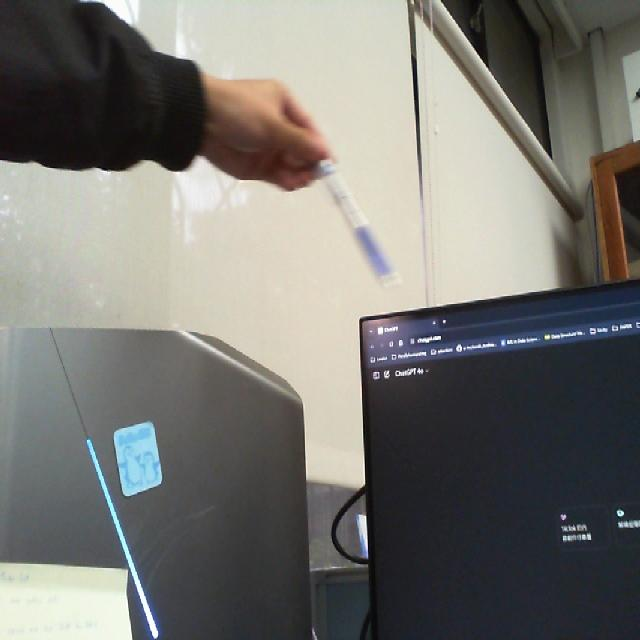Pen: (288, 102, 407, 298)
